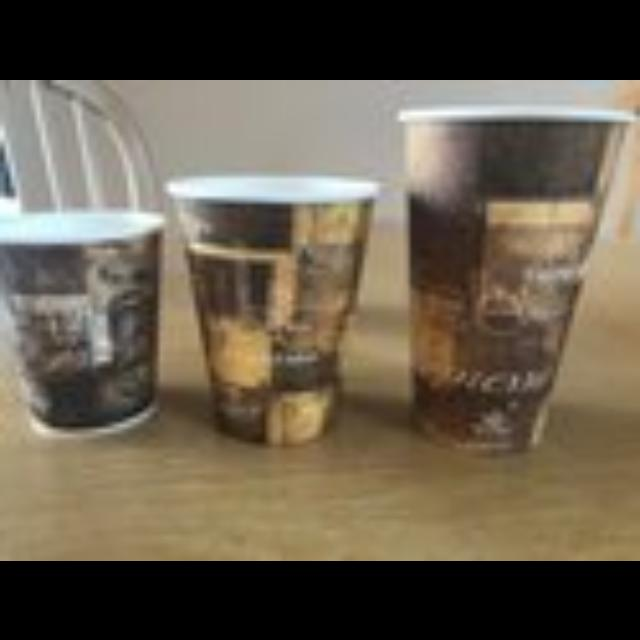trash: (397, 104, 638, 456)
